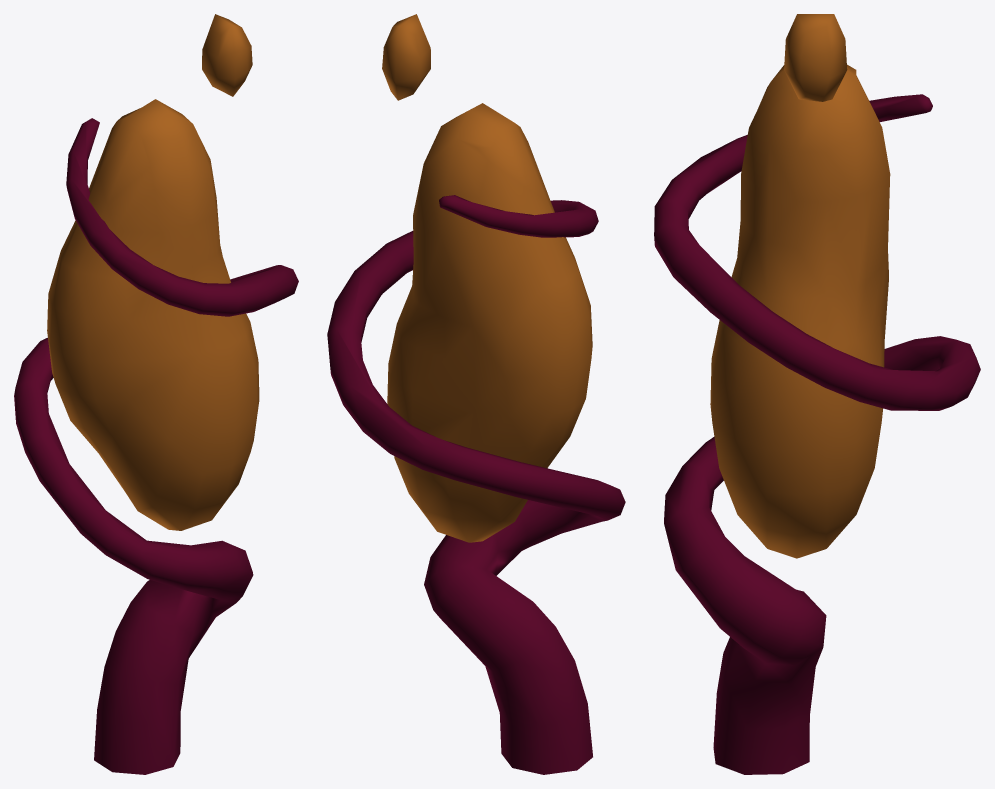
File: tree-lava-1.glb
3 views of the same model, side by side, from view 1: azimuth 30°, elevation 25°; view 2: azimuth 150°, elevation 25°; view 3: azimuth 270°, elevation 25° (orthographic). The views are drawn at different scales.
Parts seen in each view (by area): view 1: Tree_Lava_1; view 2: Tree_Lava_1; view 3: Tree_Lava_1.
Part boxes in pixels (x1,y1,x2,y2): Tree_Lava_1: (14,14,298,774); Tree_Lava_1: (327,14,625,774); Tree_Lava_1: (654,14,980,774).
Bounding box in the file's own units: 1.2 × 3.24 × 1.2.
